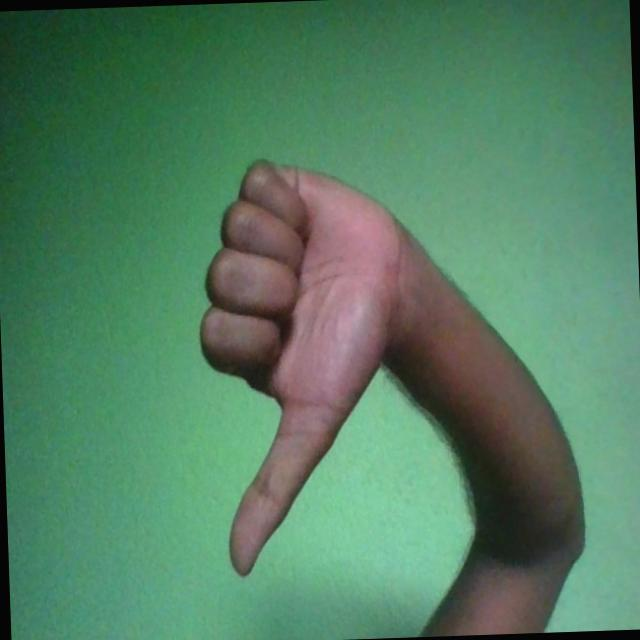Dislike: (195, 151, 412, 578)
